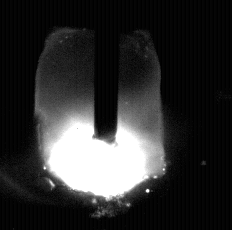arame: (94, 0, 119, 144)
poca: (39, 0, 164, 230)
